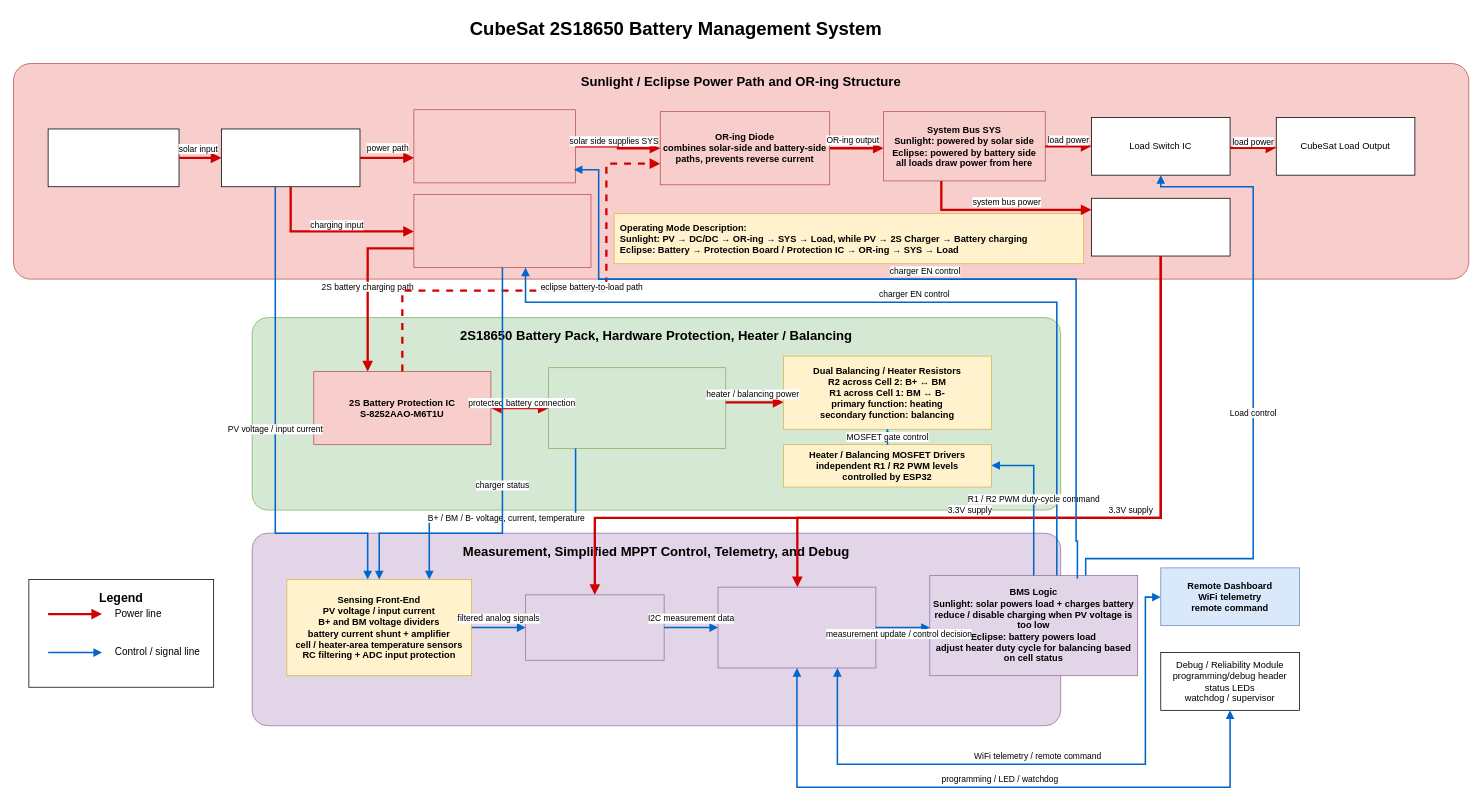
This 1482x808 diagram has some shape labels left out. Here are the shapes that lost their labels. From the top down, the centre of each, then its label:
point (113, 157): Solar Panel / Demo PV Input 9–12V variable-voltage input
point (290, 157): Input Protection PTC resettable fuse + TVS reverse-polarity protection
point (494, 146): Solar-Side DC/DC Regulator(>8.4V)
point (502, 231): Charger IC LT3652EMSE#PBF（for MPPT） or BQ2057WSN
point (1160, 227): 3.3V Buck Regulator powers ESP32, ADC, and sensors
point (637, 408): 2S18650 Battery Pack Holder:1044 Cell 2: B+ to BM Cell 1: BM to B-
point (594, 627): External ADC MCP3428-E/SL + INA219BIDR
point (796, 627): ESP32-WROOM (ESP32-WROOM-32E-N4) MCU + WiFi telemetry + remote control
